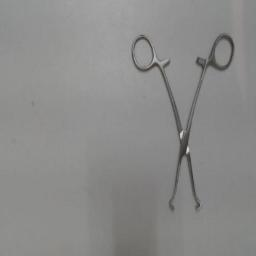Babcock Tissue Forceps: (128, 30, 238, 214)
